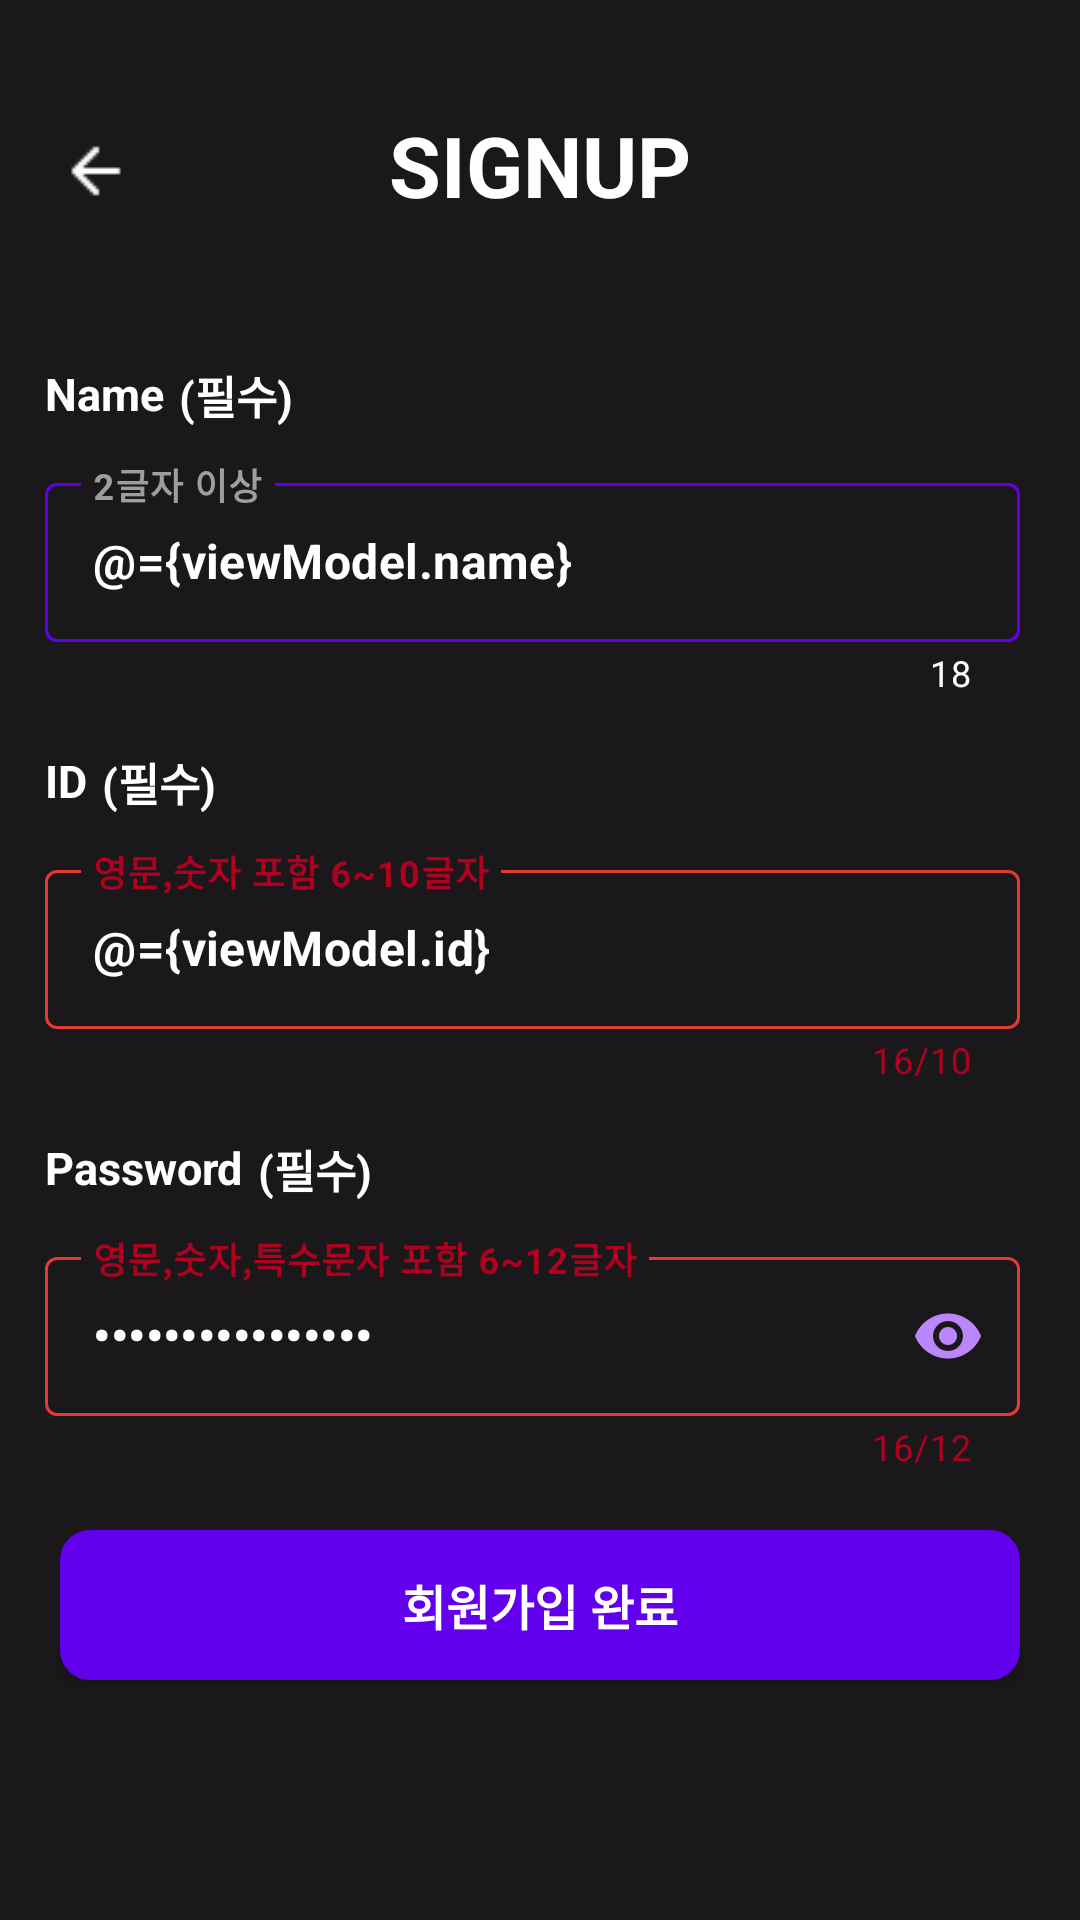

Icons on this 1080 × 1920 Android screen, each with the point to tap as (x,y):
android back: (96,171)
